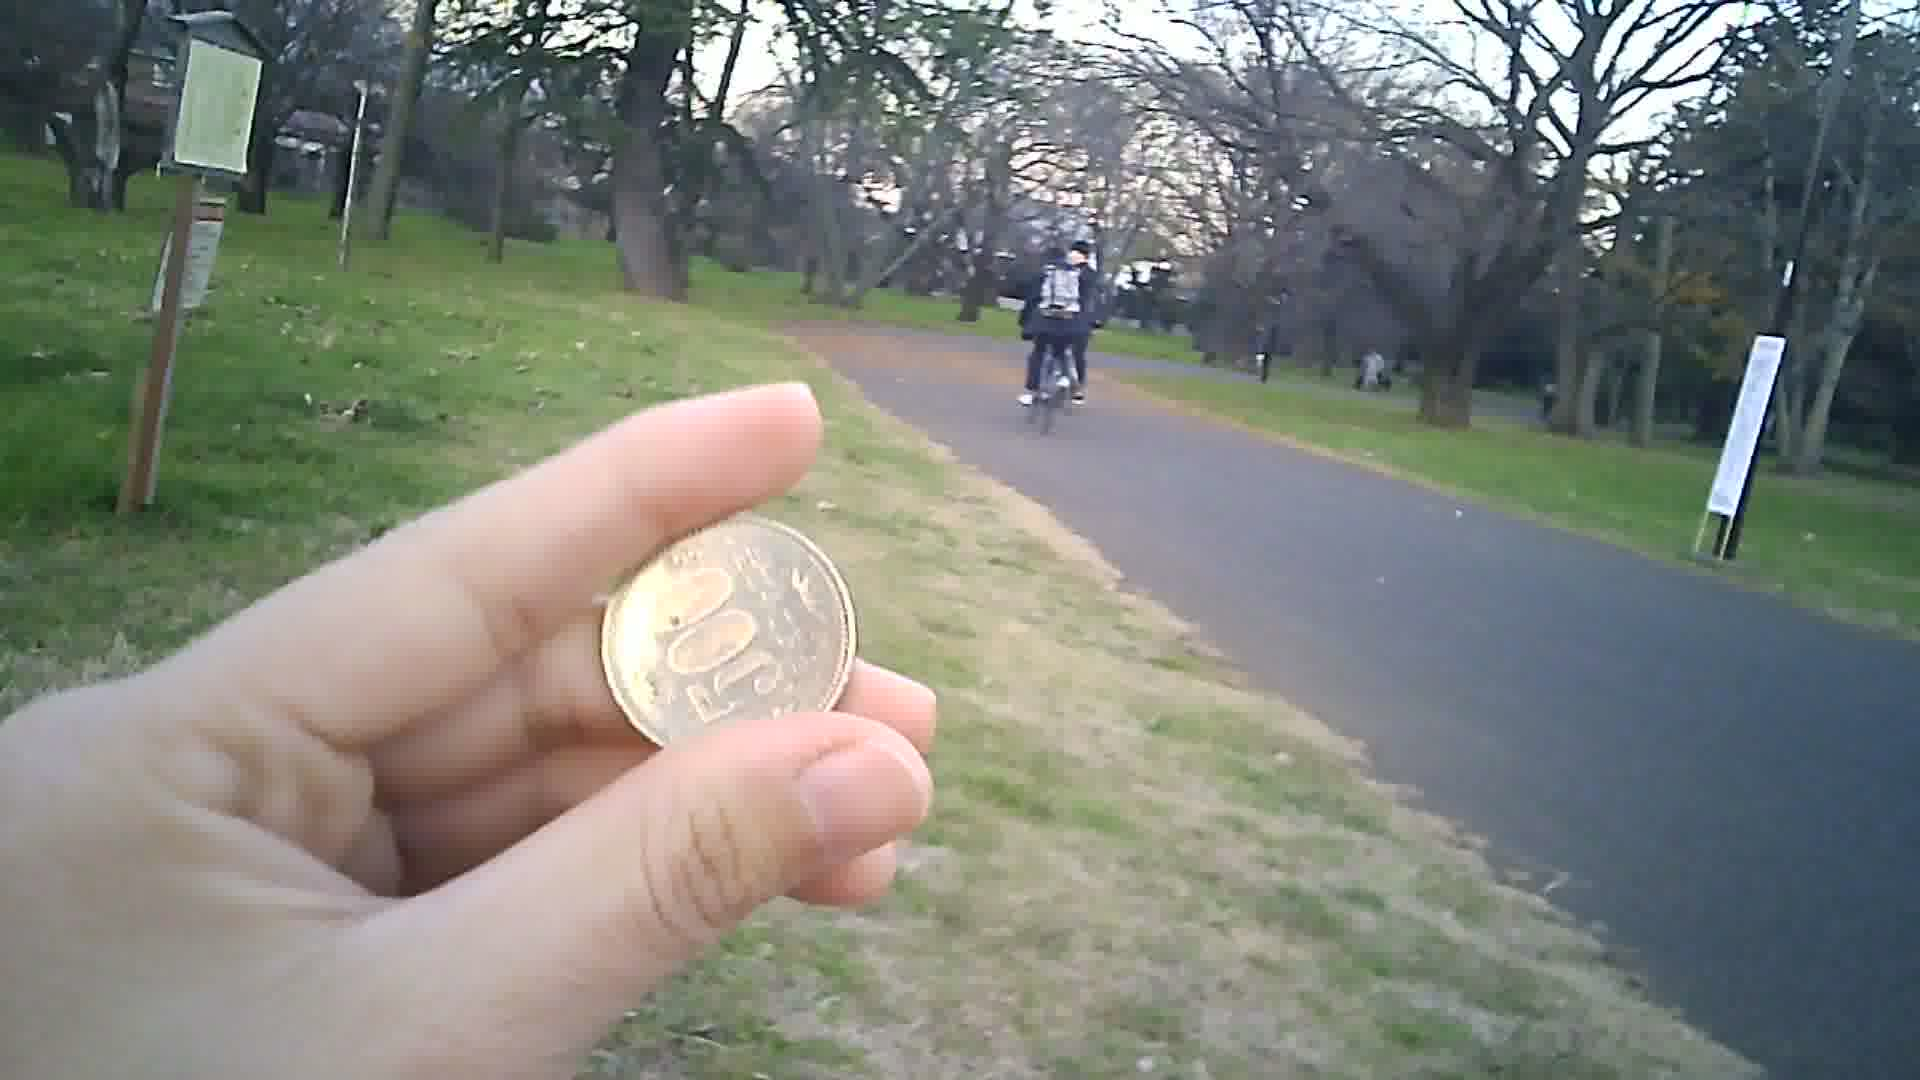500 Yen: (600, 502, 858, 767)
